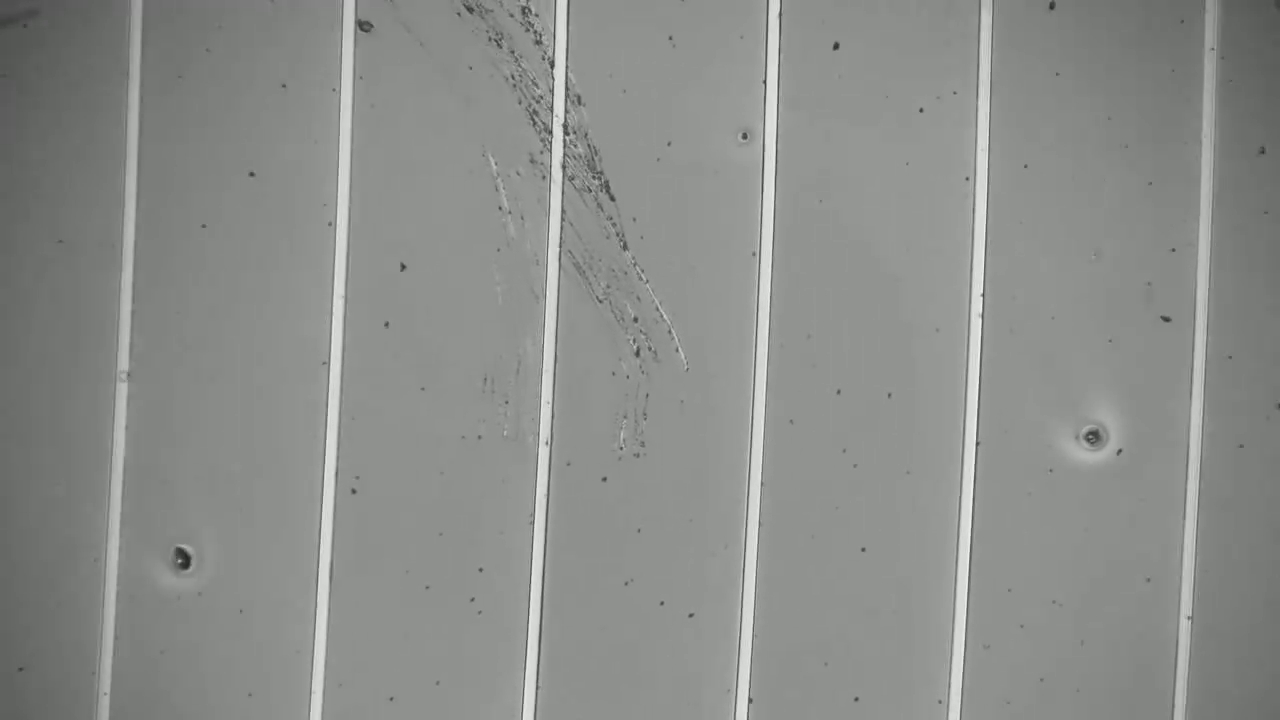scratch: (467, 10, 704, 359)
